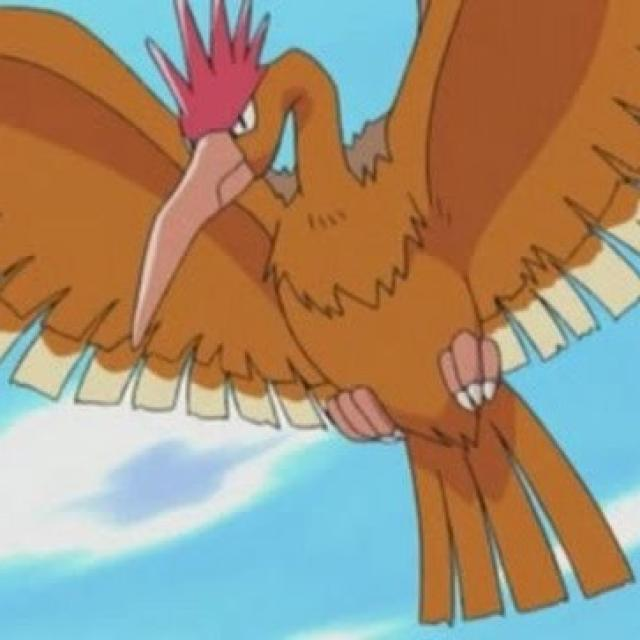Fearow: (55, 19, 608, 437)
